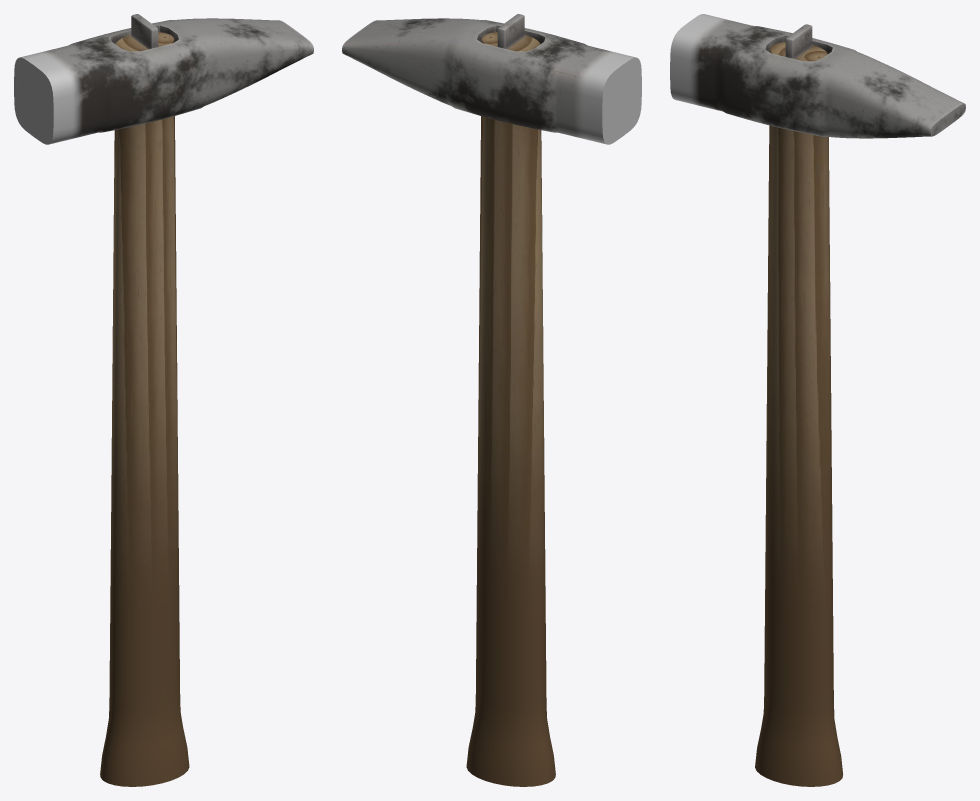
Rendered from smithing_hammer.glb.
3 views of the same model, side by side, from view 1: azimuth 30°, elevation 25°; view 2: azimuth 150°, elevation 25°; view 3: azimuth 330°, elevation 25° (orthographic).
Visible parts, largest first — view 1: smithing_hammer; view 2: smithing_hammer; view 3: smithing_hammer.
Part boxes in pixels (x1=…): smithing_hammer: x1=14, y1=14, x2=313, y2=786; smithing_hammer: x1=342, y1=14, x2=641, y2=786; smithing_hammer: x1=670, y1=14, x2=965, y2=786.
Size of the model in its own units: 0.13 by 0.355 by 0.04.
Materials: 1 (1 with a texture image).
